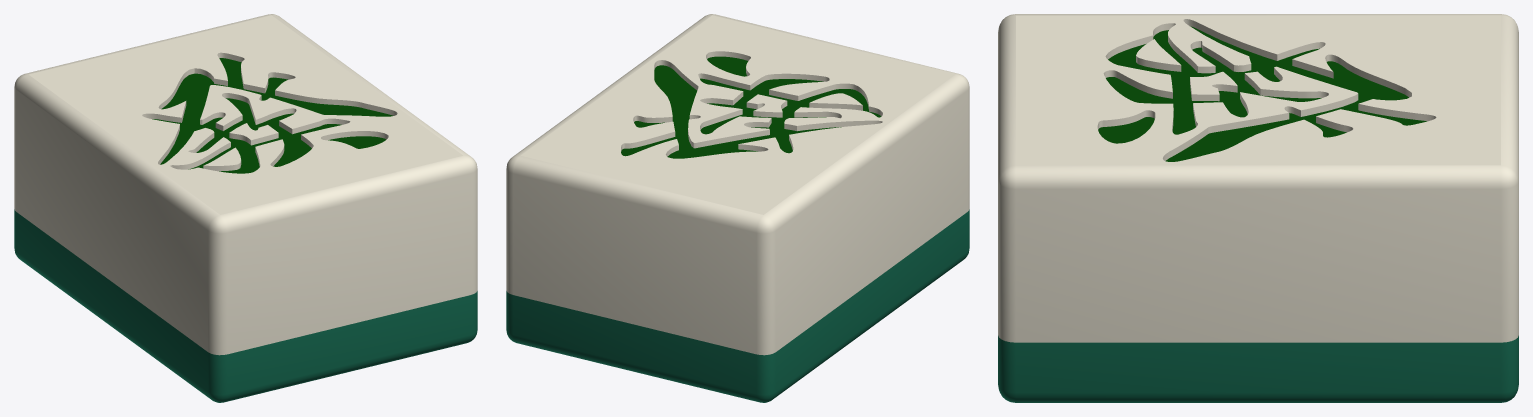
File: Hatsu.glb
3 renders of one model, left to right at view 1: azimuth 30°, elevation 25°; view 2: azimuth 150°, elevation 25°; view 3: azimuth 270°, elevation 25°, orthographic. The views are drawn at different scales.
Visible parts, largest first — view 1: Hatsu_body, Hatsu_inset; view 2: Hatsu_body, Hatsu_inset; view 3: Hatsu_body, Hatsu_inset.
Boxes of the visible parts, x1,y1,x2,y2 form: Hatsu_body: (14, 14, 477, 402); Hatsu_inset: (152, 58, 393, 173); Hatsu_body: (506, 14, 969, 402); Hatsu_inset: (621, 56, 881, 158); Hatsu_body: (998, 14, 1518, 402); Hatsu_inset: (1098, 26, 1426, 161).
Bounding box in the file's own units: 0.024 × 0.016 × 0.032.
